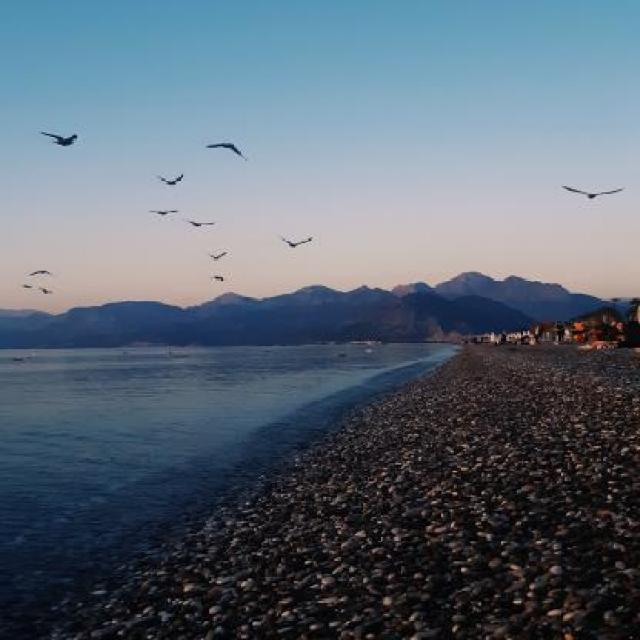bird: (562, 186, 624, 200), (206, 143, 248, 160), (39, 131, 79, 147), (278, 234, 312, 248), (182, 218, 216, 228), (156, 174, 184, 186), (28, 270, 58, 278), (148, 210, 178, 216), (206, 252, 228, 260), (210, 276, 224, 282), (38, 288, 52, 294), (20, 284, 32, 290)
